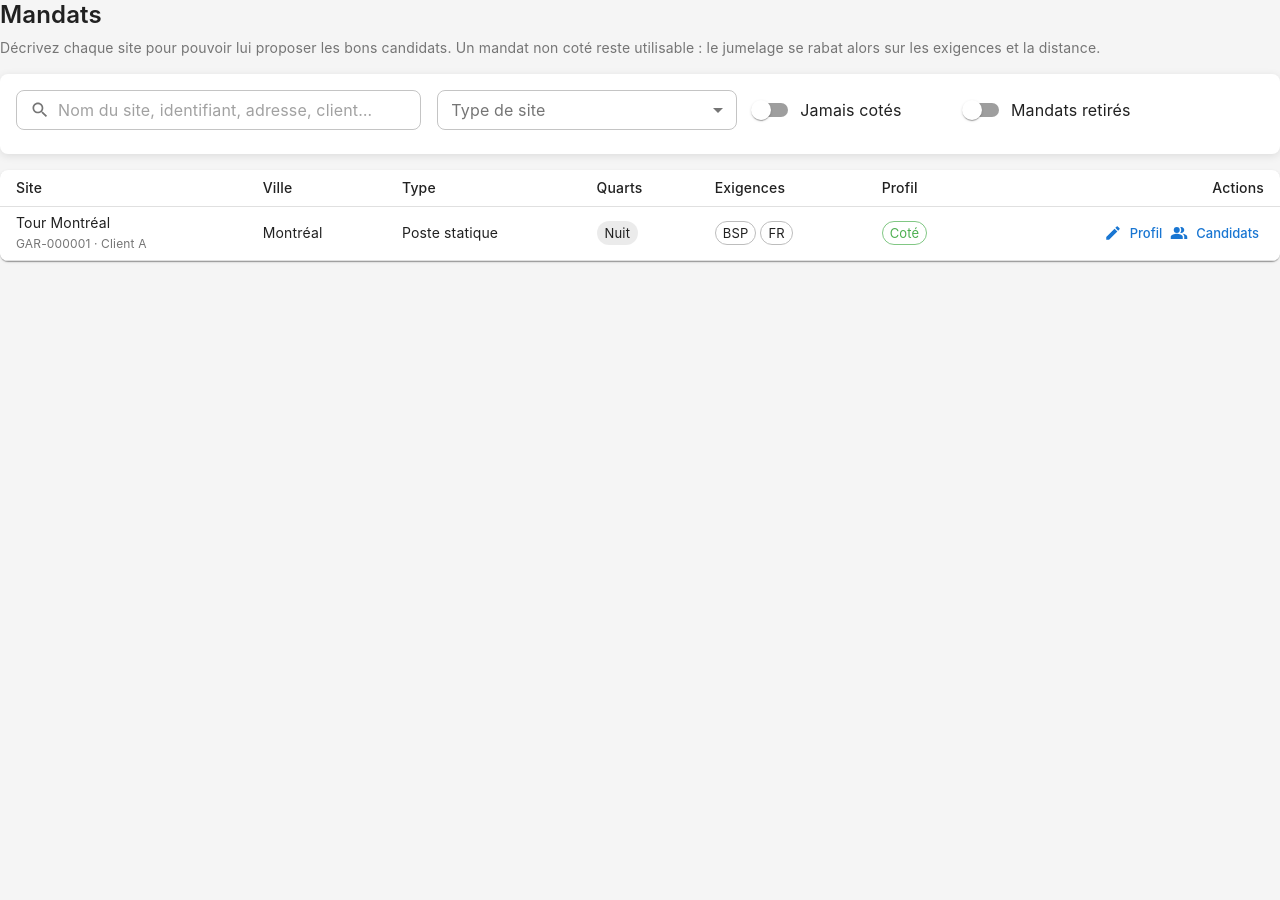
Scenario: MandatesPage › dialogue des candidats › distingue « pas de questionnaire » de « aucun écart »
The image size is (1280, 900).
Check: the text "Tour Montréal" is shown, box [16,214,110,231]
Click the button "Candidats" at (1216, 234), box [1167,218,1264,249]
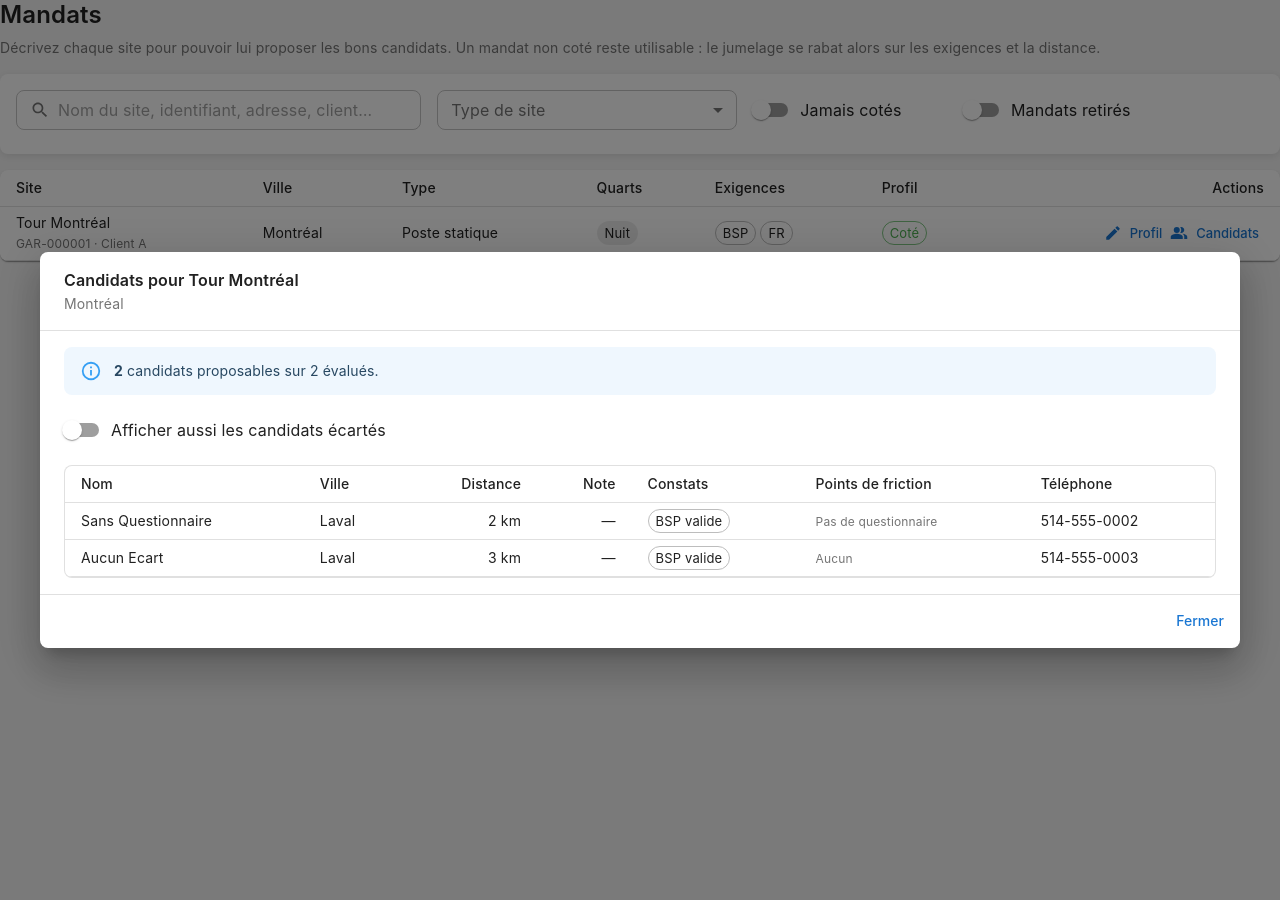
Check: the text "Pas de questionnaire" is shown, box [816,514,937,529]
Check: the text "Aucun" is shown, box [816,551,853,566]
